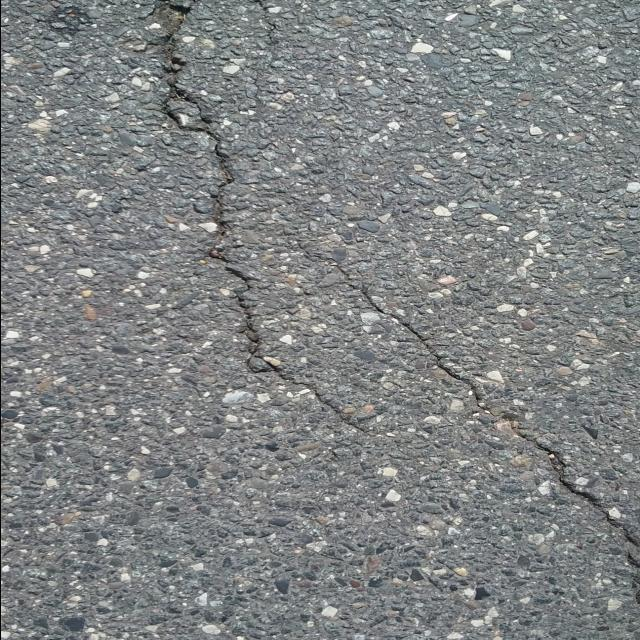Crack: (302, 251, 640, 618), (136, 0, 370, 433)
